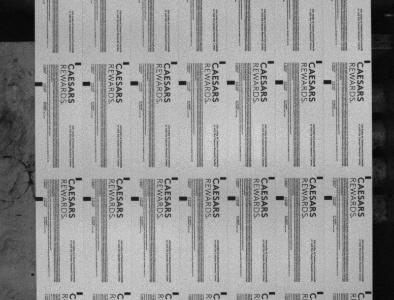qblock: (324, 195, 333, 200), (130, 81, 138, 86), (82, 81, 90, 86), (227, 80, 235, 85), (83, 196, 91, 201), (131, 196, 139, 201), (275, 80, 284, 84), (276, 196, 285, 200), (324, 80, 332, 84), (179, 81, 187, 85), (35, 82, 43, 86), (179, 196, 187, 200), (228, 196, 236, 200), (35, 197, 43, 201)
smallqblock: (171, 61, 178, 65), (172, 176, 179, 180), (220, 176, 227, 180), (269, 291, 276, 295), (75, 63, 82, 66), (76, 292, 83, 295), (173, 292, 180, 295), (221, 292, 228, 295), (317, 291, 324, 294), (124, 292, 131, 295), (123, 62, 130, 65), (316, 61, 323, 64), (268, 61, 274, 64), (220, 61, 226, 64), (76, 177, 82, 180), (124, 177, 130, 180), (269, 176, 275, 179), (365, 60, 371, 63), (317, 176, 323, 179), (366, 176, 372, 179), (366, 291, 372, 294)
